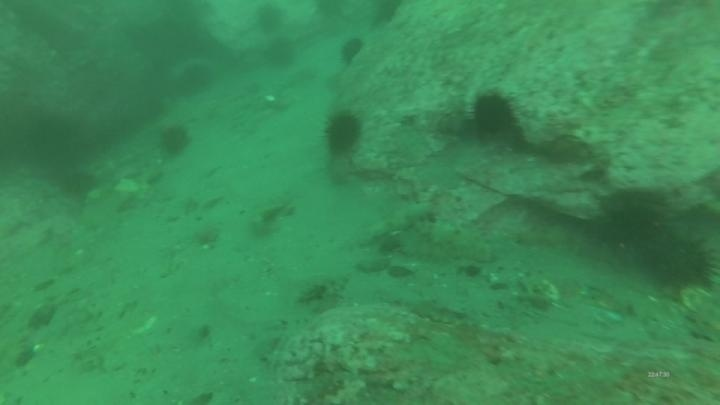echinus: (641, 228, 717, 293), (594, 187, 669, 251), (470, 90, 517, 139), (321, 108, 365, 158), (171, 59, 216, 99), (156, 122, 193, 160), (263, 36, 299, 71), (253, 3, 287, 36), (337, 34, 367, 67), (369, 0, 404, 28)
holothurian: (397, 216, 495, 266), (407, 296, 471, 327)
